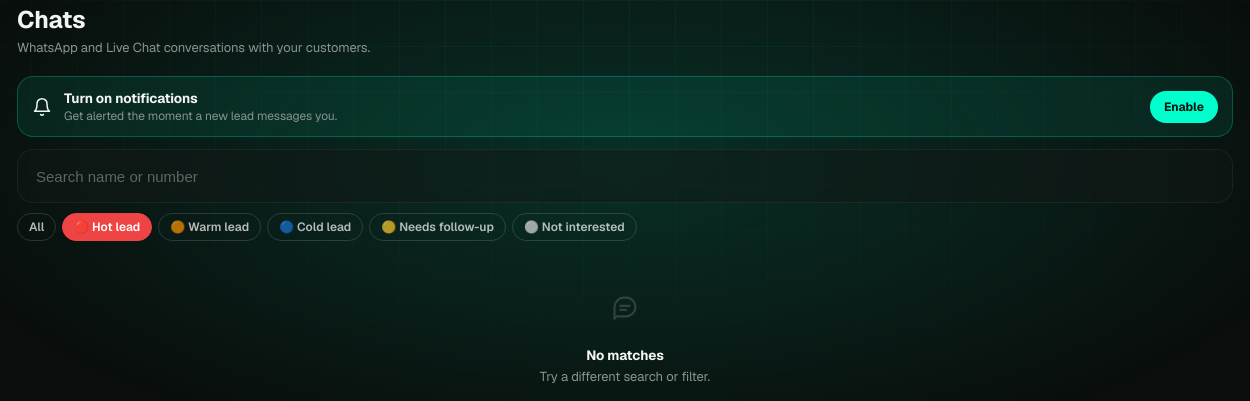
it: Chats › marks Live Chat threads with a badge and shows them without WhatsApp
Click the button "All".
click(37, 227)  # box [17,213,56,241]
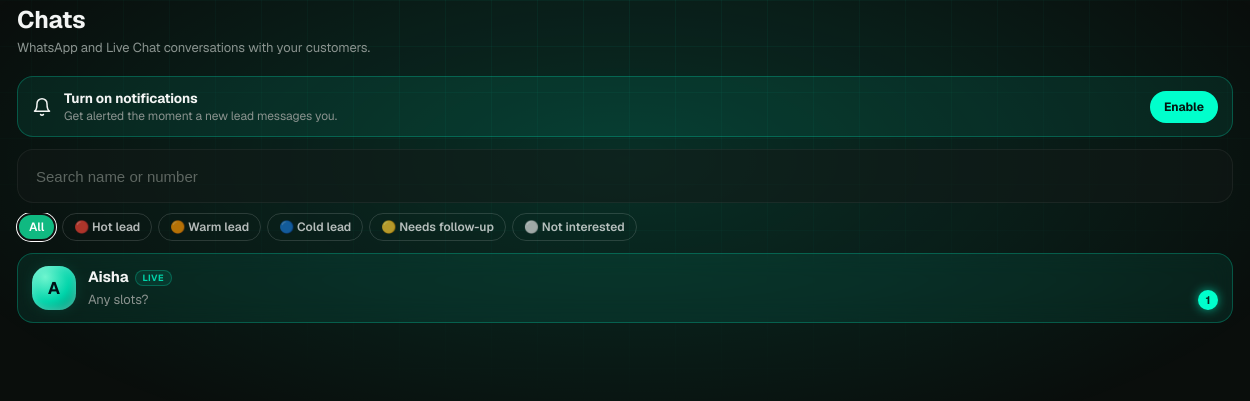
Expected: the text "Aisha" is shown, [88,266,128,286]
Expected: the text "Live" is shown, [134,270,172,286]
